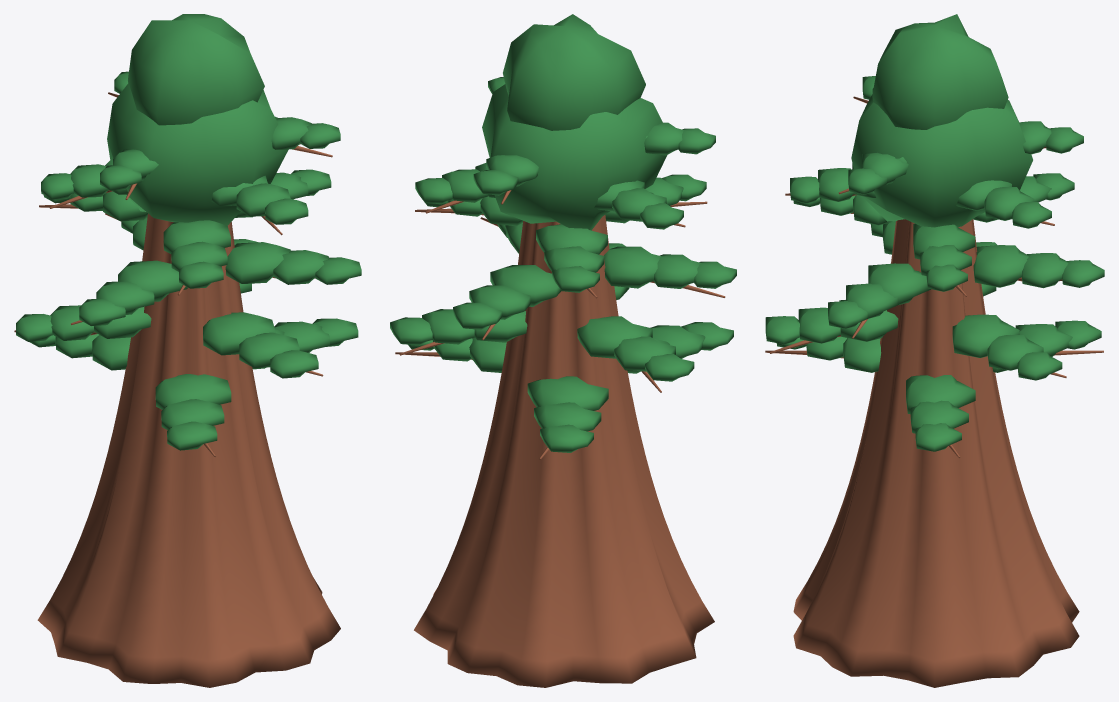
File: canopy_giant_sequoia.glb
The picture shows the model from 3 angles, left to right: view 1: azimuth 30°, elevation 25°; view 2: azimuth 150°, elevation 25°; view 3: azimuth 270°, elevation 25°; orthographic projection.
Visible parts, largest first — view 1: Flora_Giant_Sequoia; view 2: Flora_Giant_Sequoia; view 3: Flora_Giant_Sequoia.
Part boxes in pixels (bbox=[...]): Flora_Giant_Sequoia: bbox=[14, 14, 361, 687]; Flora_Giant_Sequoia: bbox=[390, 14, 736, 687]; Flora_Giant_Sequoia: bbox=[765, 14, 1104, 687].
Size of the model in its own units: 12.66 by 23.2 by 11.92.
